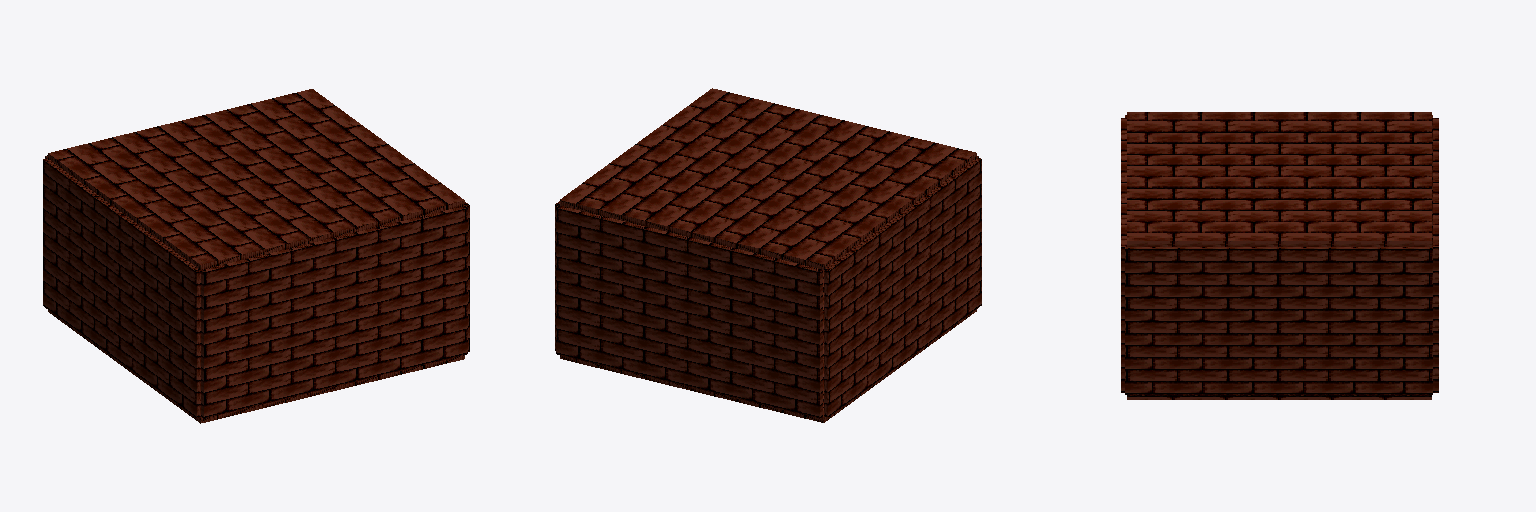
3 renders of one model, left to right at view 1: azimuth 30°, elevation 25°; view 2: azimuth 150°, elevation 25°; view 3: azimuth 270°, elevation 25°, orthographic.
Parts seen in each view (by area): view 1: Cube.006_Cube.007, Cube.004_Cube.005, Cube.001_Cube.002, Cube_Cube.001; view 2: Cube.006_Cube.007, Cube.003_Cube.004, Cube.001_Cube.002, Cube_Cube.001; view 3: Cube.002_Cube.003, Cube.006_Cube.007, Cube.003_Cube.004, Cube_Cube.001, Cube.004_Cube.005.
Part boxes in pixels (left/top/right/bottom): Cube.006_Cube.007: left=48, top=89, right=464, bottom=269; Cube.004_Cube.005: left=201, top=206, right=467, bottom=418; Cube.001_Cube.002: left=43, top=158, right=200, bottom=417; Cube_Cube.001: left=48, top=310, right=464, bottom=423; Cube.006_Cube.007: left=560, top=88, right=976, bottom=269; Cube.003_Cube.004: left=556, top=206, right=822, bottom=418; Cube.001_Cube.002: left=824, top=158, right=981, bottom=417; Cube_Cube.001: left=560, top=270, right=976, bottom=422; Cube.002_Cube.003: left=1125, top=246, right=1432, bottom=394; Cube.006_Cube.007: left=1127, top=112, right=1431, bottom=246; Cube.003_Cube.004: left=1433, top=118, right=1438, bottom=392; Cube_Cube.001: left=1127, top=395, right=1431, bottom=399; Cube.004_Cube.005: left=1121, top=118, right=1126, bottom=392.
Size of the model in its own units: 6.27 by 3.48 by 6.3.
5 materials, 1 textured.